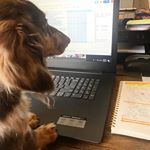puppy: (1, 1, 73, 98)
